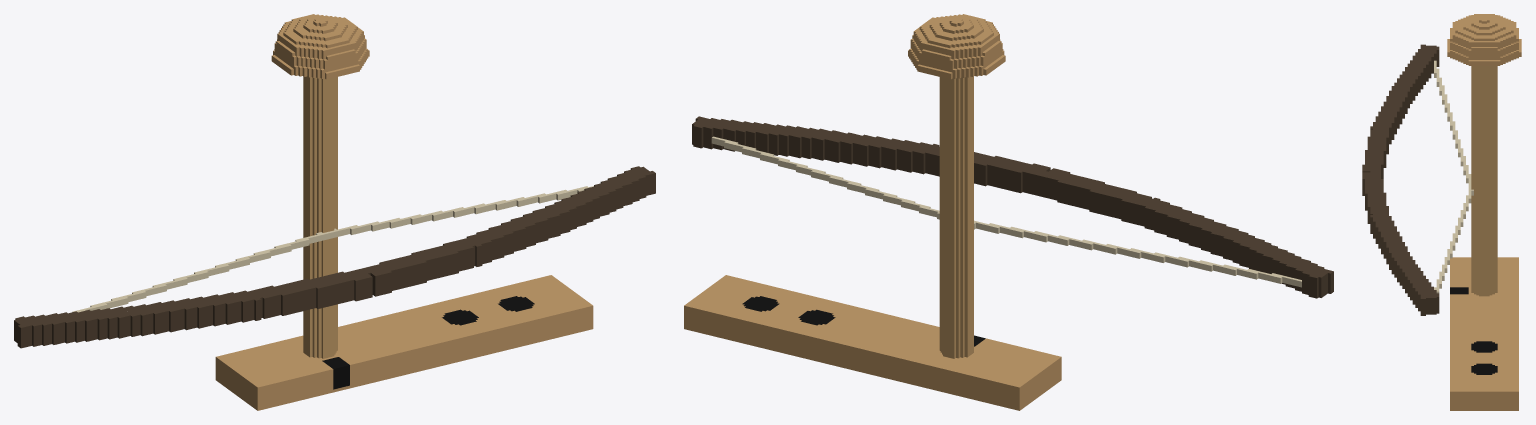
Rendered from fire_drill.glb.
3 views of the same model, side by side, from view 1: azimuth 30°, elevation 25°; view 2: azimuth 150°, elevation 25°; view 3: azimuth 270°, elevation 25° (orthographic). The views are drawn at different scales.
Visible parts, largest first — view 1: fire_drill:compound; view 2: fire_drill:compound; view 3: fire_drill:compound.
Part boxes in pixels (left/top/right/bottom): fire_drill:compound: left=14, top=14, right=655, bottom=410; fire_drill:compound: left=684, top=14, right=1333, bottom=410; fire_drill:compound: left=1362, top=14, right=1521, bottom=410.
Bounding box in the file's own units: 0.454 × 0.242 × 0.12.
